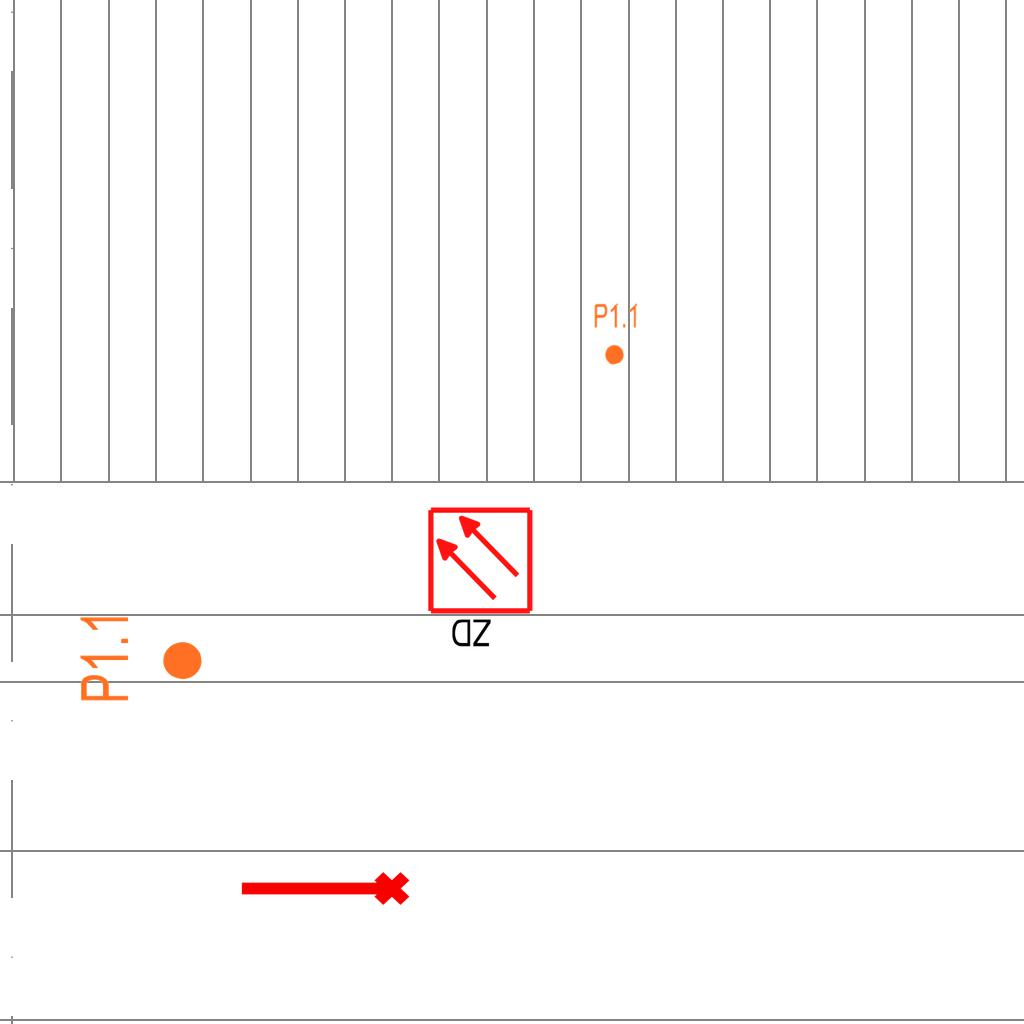ASR_Ansaugoeffnung: (236, 868, 412, 914)
Downlight_LED_Einbauleuchten_Flur: (77, 611, 205, 704), (592, 301, 640, 367)
ZD_Melder_in_Zwischendecke_mit_Revisionsoeffnung_mind_40_x_40_cm: (425, 505, 539, 654)
